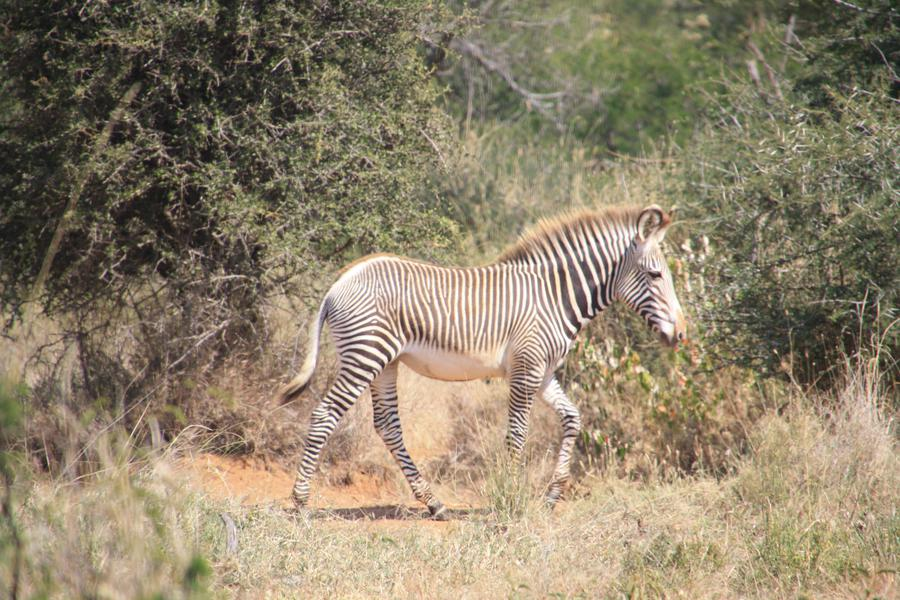zebra_grevys: (312, 241, 573, 371)
